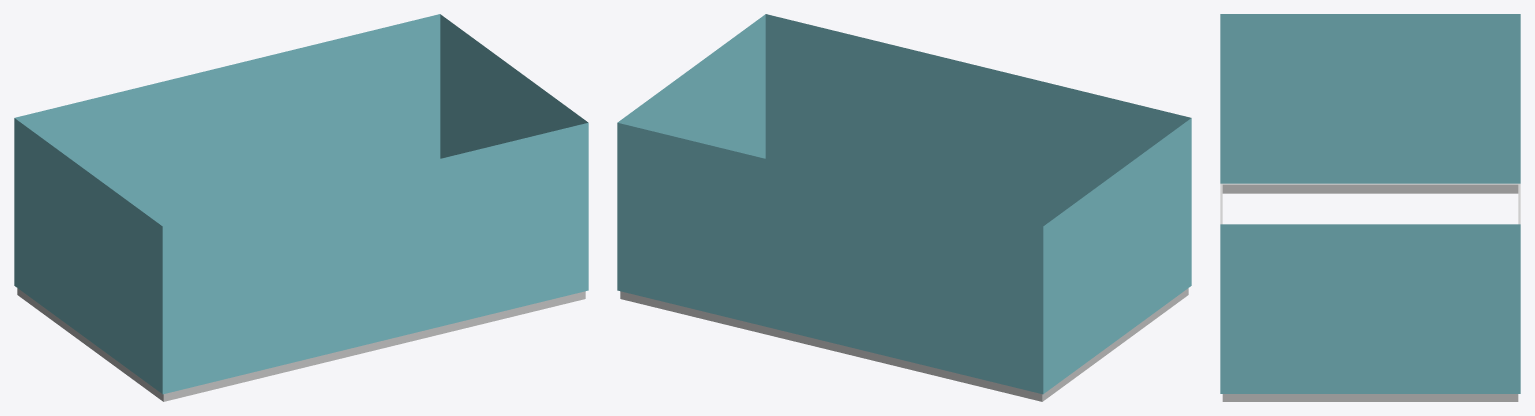
The model's file is walls.fbx.
3 renders of one model, left to right at view 1: azimuth 30°, elevation 25°; view 2: azimuth 150°, elevation 25°; view 3: azimuth 270°, elevation 25°, orthographic.
Parts seen in each view (by area): view 1: walls; view 2: walls; view 3: walls.
Part boxes in pixels (left/top/right/bottom): walls: left=14, top=14, right=588, bottom=401; walls: left=617, top=14, right=1191, bottom=401; walls: left=1220, top=14, right=1520, bottom=401.
Size of the model in its own units: 605 by 240 by 366.
